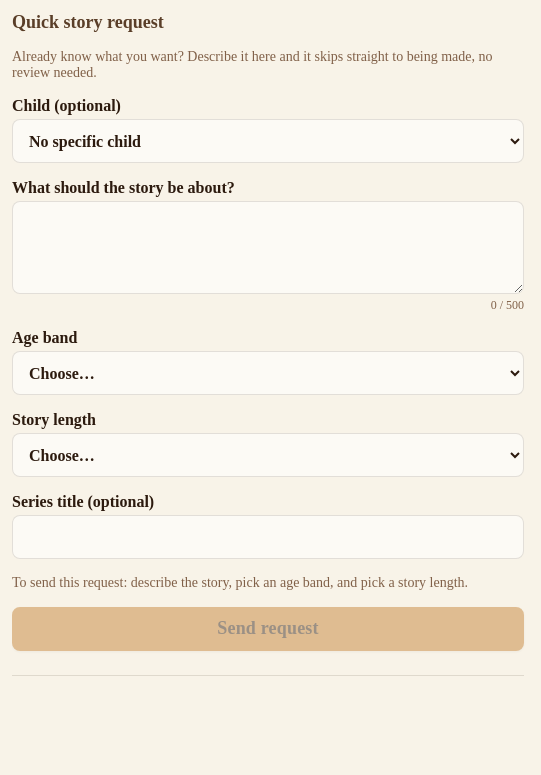
RequestStoryForm › guardian mode › shows the style select only for teen bands and resets it to prose when leaving one
Expected: the field labelled "Story style" is not shown
Select "Ages 13-16" in the dropdown labelled "Age band" at (268, 373), box [12,351,524,395]
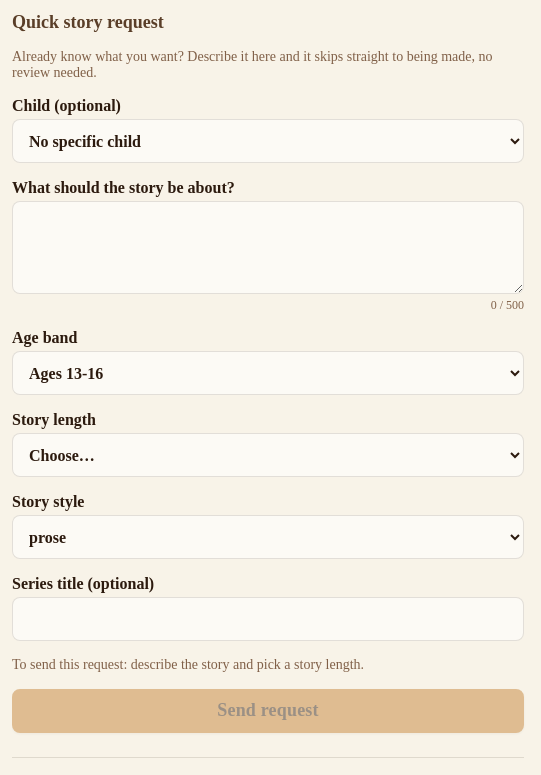
Select "gamebook" in the dropdown labelled "Story style" at (268, 537), box [12,515,524,559]
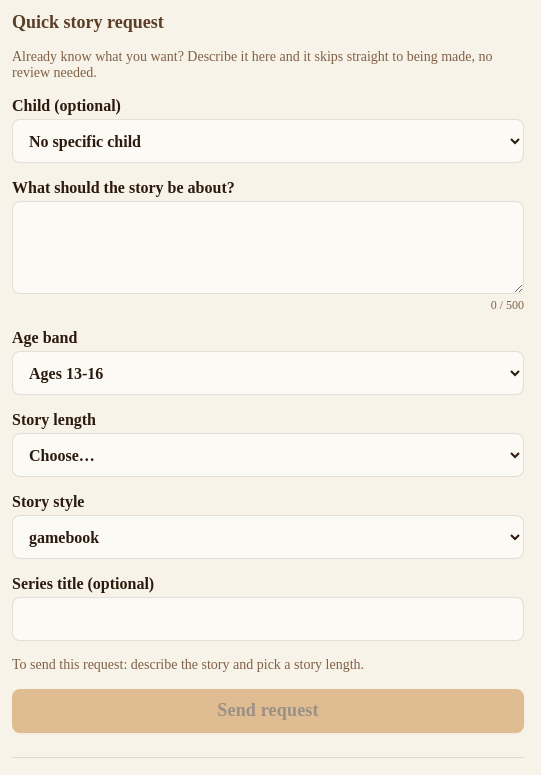
Select "Ages 8-11" in the dropdown labelled "Age band" at (268, 373), box [12,351,524,395]
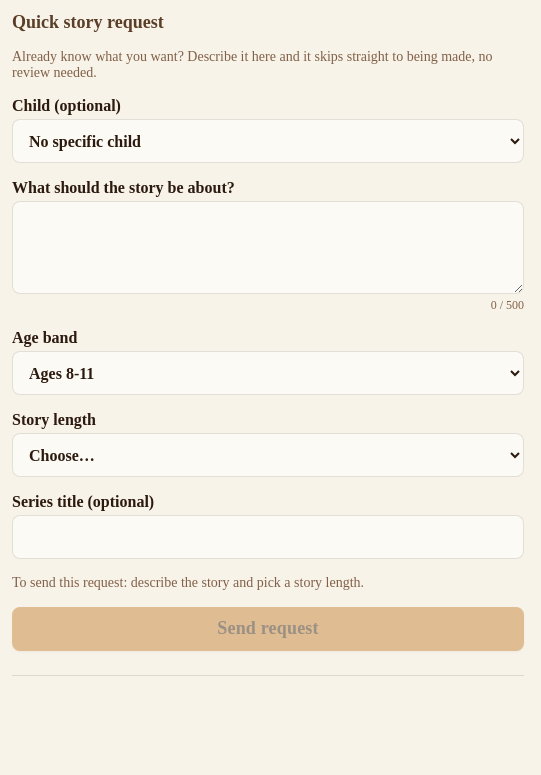
Now the label labelled "Story style" is gone
Select "Ages 13-16" in the dropdown labelled "Age band" at (268, 373), box [12,351,524,395]
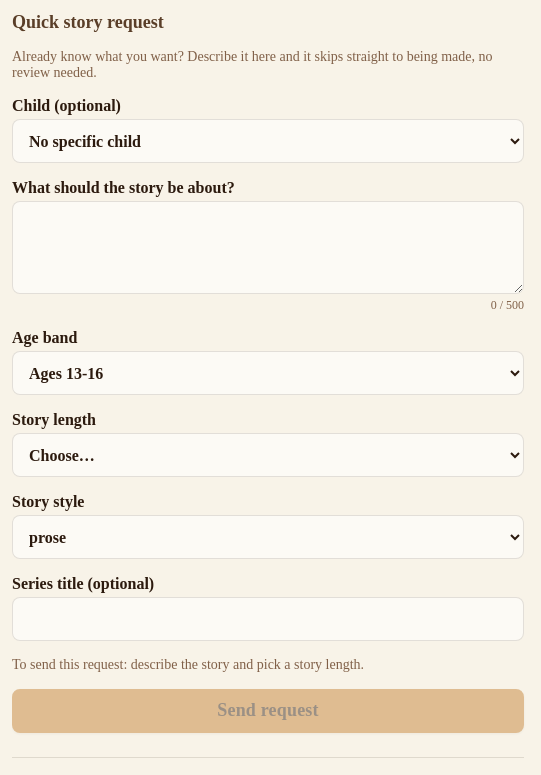
Now the dropdown labelled "Story style" shows "prose", box [12,515,524,559]
